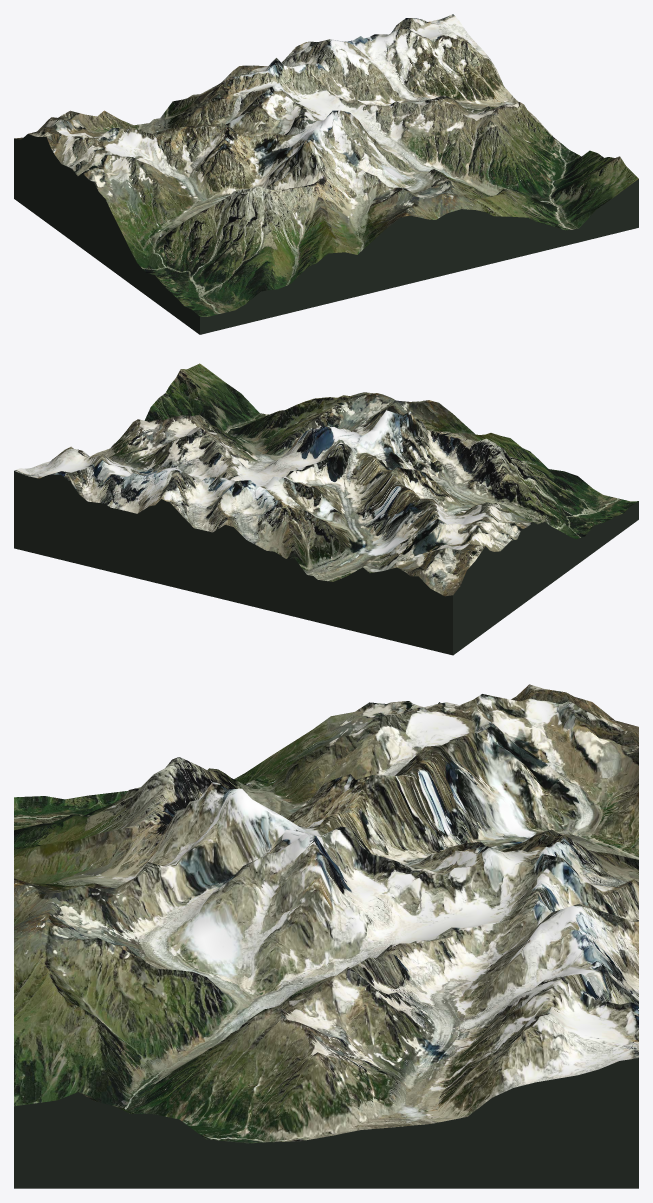
File: ChalaadiGlacier.glb
3 renders of one model, top to bottom at view 1: azimuth 30°, elevation 25°; view 2: azimuth 150°, elevation 25°; view 3: azimuth 270°, elevation 25°, orthographic. The views are drawn at different scales.
Visible parts, largest first — view 1: TerrainTop, TerrainSide; view 2: TerrainTop, TerrainSide; view 3: TerrainTop, TerrainSide.
Boxes of the visible parts, x1=… form: TerrainTop: x1=14, y1=14, x2=638, y2=316; TerrainSide: x1=14, y1=134, x2=638, y2=334; TerrainTop: x1=14, y1=363, x2=638, y2=596; TerrainSide: x1=14, y1=471, x2=638, y2=655; TerrainTop: x1=14, y1=684, x2=638, y2=1143; TerrainSide: x1=14, y1=1058, x2=638, y2=1188.
Bounding box in the file's own units: 334 × 82.84 × 245.
Materials: 2 (1 with a texture image).
